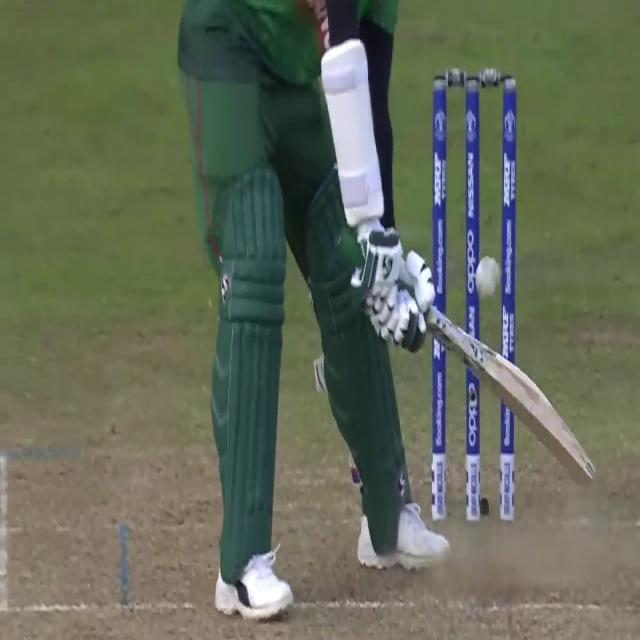ball: (471, 252, 503, 308)
